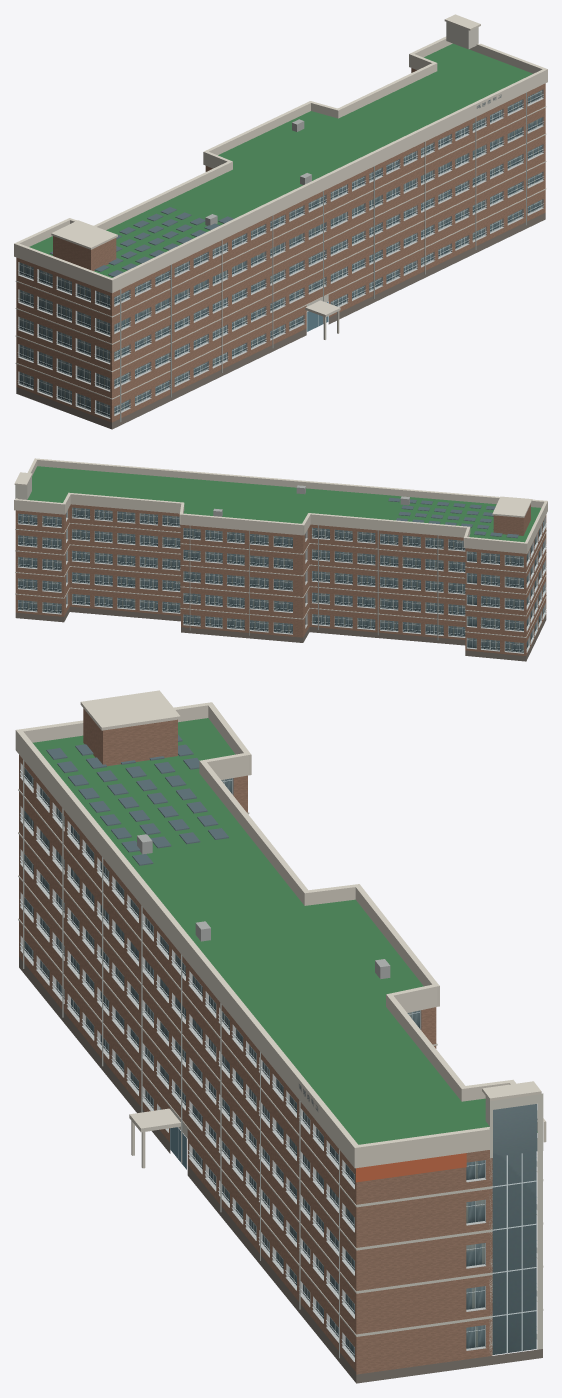
The picture shows the model from 3 angles, top to bottom: view 1: azimuth 30°, elevation 25°; view 2: azimuth 150°, elevation 25°; view 3: azimuth 270°, elevation 25°; orthographic projection. The views are drawn at different scales.
Parts seen in each view (by area): view 1: annex__wall-plaster, annex__roof, annex__brick, annex__glass, annex__parapet-concrete, annex__frame, annex__window-reveal, annex__trim-concrete, annex__base-stone, annex__rainwater-pipe, annex__window-sill-metal, annex__canopy-concrete; view 2: annex__wall-plaster, annex__glass, annex__roof, annex__brick, annex__parapet-concrete, annex__frame, annex__window-reveal, annex__trim-concrete, annex__base-stone, annex__window-sill-metal, annex__rainwater-pipe; view 3: annex__roof, annex__brick, annex__wall-plaster, annex__glass, annex__parapet-concrete, annex__window-reveal, annex__frame, annex__trim-concrete, annex__base-stone, annex__rainwater-pipe, annex__top-accent, annex__canopy-concrete (+2 smaller).
Part boxes in pixels (x1,y1,x2,y2): annex__wall-plaster: (153,103,505,402); annex__roof: (29,43,532,277); annex__brick: (16,68,545,422); annex__glass: (19,90,541,417); annex__parapet-concrete: (14,14,547,293); annex__frame: (18,91,543,417); annex__window-reveal: (18,89,543,418); annex__trim-concrete: (15,22,546,399); annex__base-stone: (16,213,545,429); annex__rainwater-pipe: (120,92,526,421); annex__window-sill-metal: (18,99,543,419); annex__canopy-concrete: (305,300,340,339); annex__wall-plaster: (69,504,478,651); annex__glass: (18,498,544,652); annex__roof: (27,466,541,542); annex__brick: (15,504,546,655); annex__parapet-concrete: (14,458,547,553); annex__frame: (18,508,546,652); annex__window-reveal: (18,508,546,653); annex__trim-concrete: (15,476,546,637); annex__base-stone: (15,606,546,661); annex__window-sill-metal: (18,518,545,653); annex__rainwater-pipe: (189,525,438,640); annex__roof: (32,718,537,1144); annex__brick: (19,708,492,1374); annex__wall-plaster: (51,794,325,1333); annex__glass: (24,735,537,1356); annex__parapet-concrete: (15,690,546,1168); annex__window-reveal: (20,763,537,1361); annex__frame: (20,767,537,1358); annex__trim-concrete: (18,789,543,1355); annex__base-stone: (19,957,542,1383); annex__rainwater-pipe: (23,759,339,1358); annex__top-accent: (356,1153,466,1182); annex__canopy-concrete: (129,1108,180,1168).
Size of the model in its own units: 79.69 by 22.33 by 40.07.
Materials: 16 (4 with a texture image).
